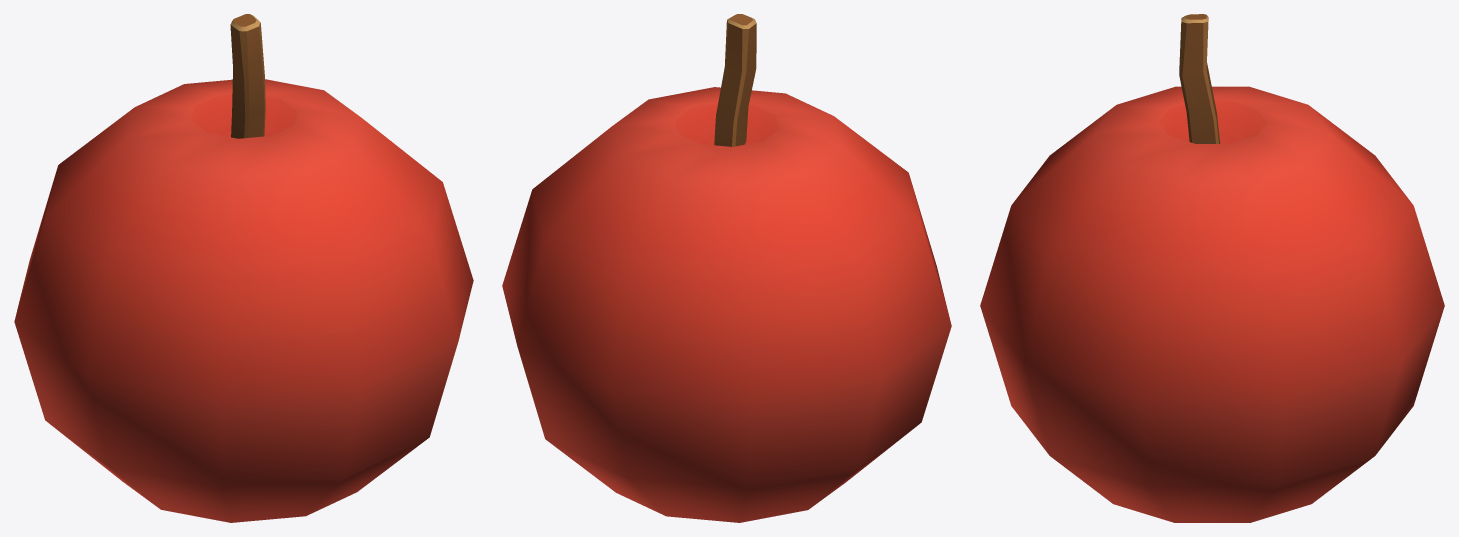
File: Apple_1_B.glb
3 views of the same model, side by side, from view 1: azimuth 30°, elevation 25°; view 2: azimuth 150°, elevation 25°; view 3: azimuth 270°, elevation 25° (orthographic). The views are drawn at different scales.
Parts seen in each view (by area): view 1: Apple_1_B; view 2: Apple_1_B; view 3: Apple_1_B.
Boxes of the visible parts, <box> form: Apple_1_B: <box>14,14,473,522</box>; Apple_1_B: <box>502,14,951,522</box>; Apple_1_B: <box>980,14,1444,522</box>.
Size of the model in its own units: 0.1278 by 0.1492 by 0.1344.
2 materials, 2 textured.
